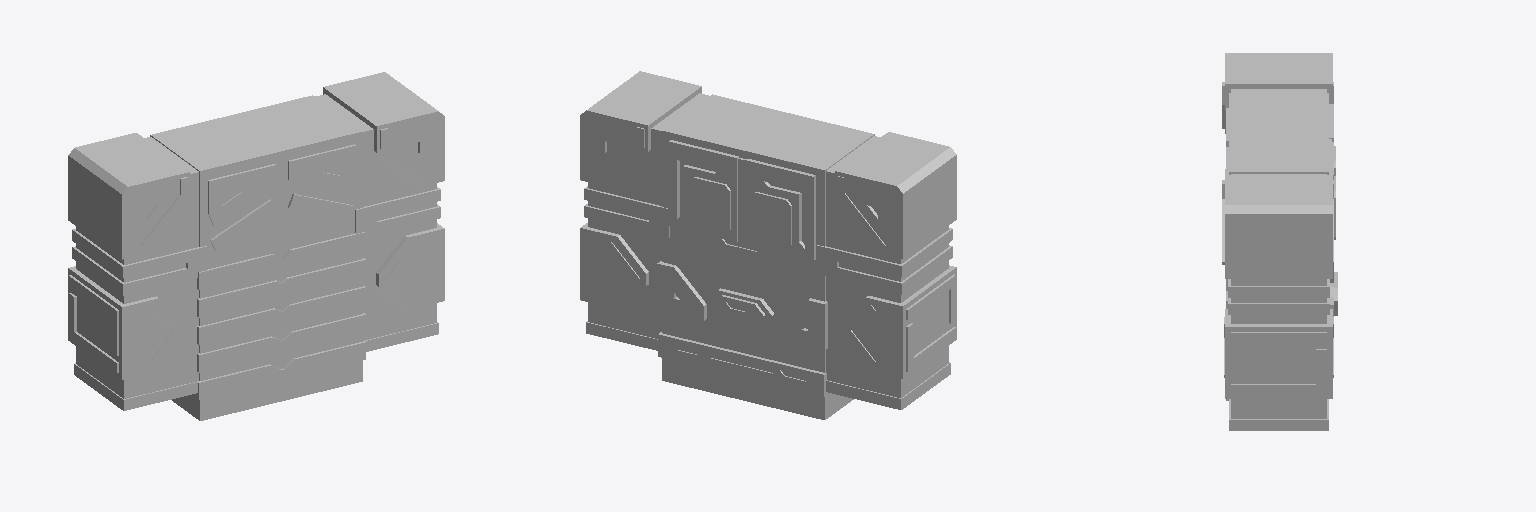
File: futuriste_chestplate_item.obj
3 renders of one model, left to right at view 1: azimuth 30°, elevation 25°; view 2: azimuth 150°, elevation 25°; view 3: azimuth 270°, elevation 25°, orthographic.
Parts seen in each view (by area): view 1: body, LeftArm, RightArm; view 2: body, LeftArm, RightArm; view 3: RightArm, body, LeftArm.
Part boxes in pixels (bbox=[...]): body: bbox=[150, 95, 365, 420]; LeftArm: bbox=[68, 133, 207, 410]; RightArm: bbox=[315, 72, 444, 351]; body: bbox=[657, 94, 874, 419]; LeftArm: bbox=[817, 132, 956, 409]; RightArm: bbox=[580, 71, 708, 350]; RightArm: bbox=[1222, 174, 1333, 430]; body: bbox=[1226, 93, 1337, 400]; LeftArm: bbox=[1222, 53, 1333, 174].
Bounding box in the file's own units: 1.07 × 0.793 × 0.3266.